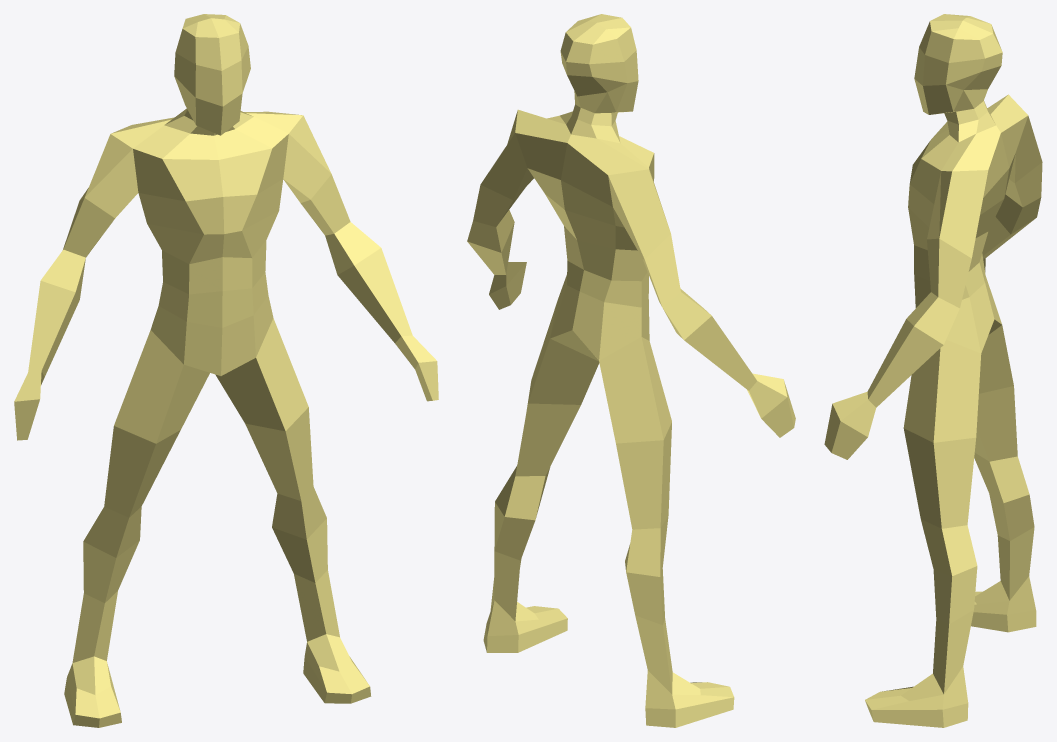
File: Low Poly SuperHero.fbx
3 renders of one model, left to right at view 1: azimuth 30°, elevation 25°; view 2: azimuth 150°, elevation 25°; view 3: azimuth 270°, elevation 25°, orthographic. The views are drawn at different scales.
Parts seen in each view (by area): view 1: BASE_Low Poly Man; view 2: BASE_Low Poly Man; view 3: BASE_Low Poly Man.
Boxes of the visible parts, x1=… form: BASE_Low Poly Man: x1=14, y1=14, x2=438, y2=727; BASE_Low Poly Man: x1=467, y1=14, x2=795, y2=727; BASE_Low Poly Man: x1=824, y1=14, x2=1042, y2=727.
Bounding box in the file's own units: 323 × 575 × 175.
